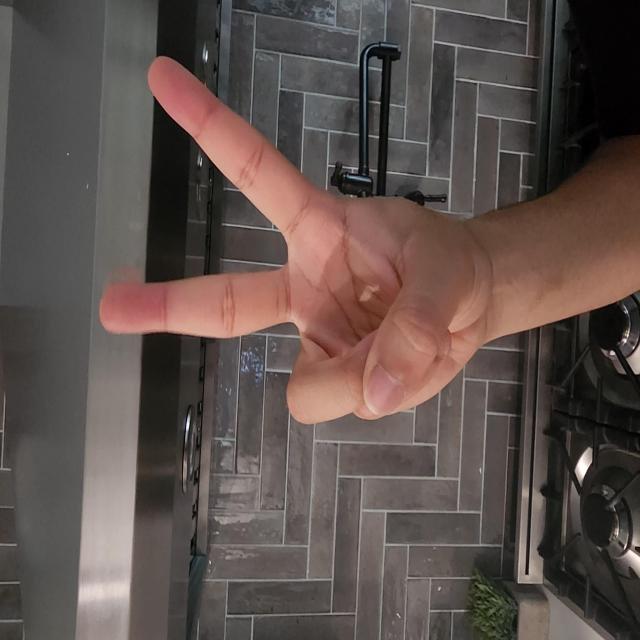V: (159, 126, 444, 640)
